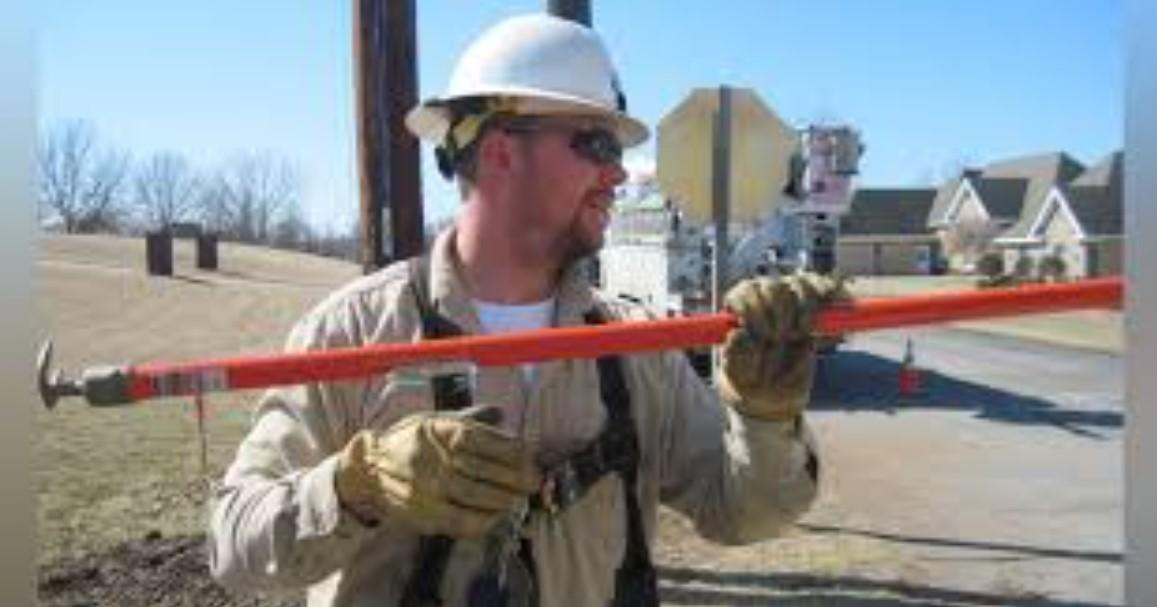Vara_Manobra: (33, 269, 1123, 419)
